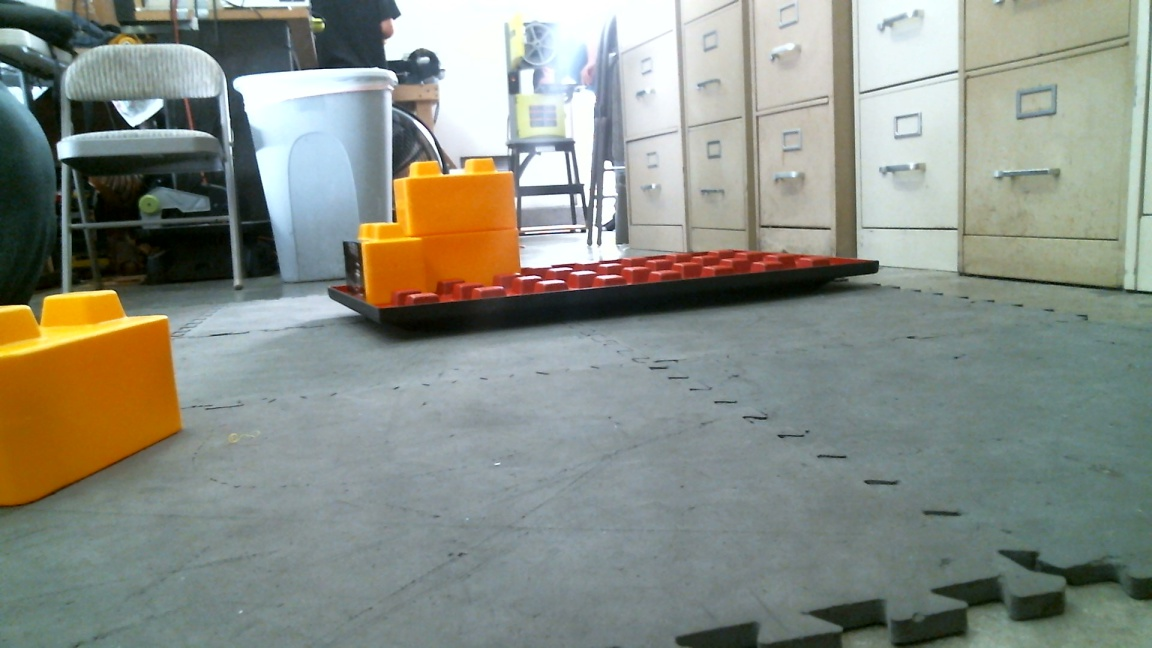skystone: (346, 222, 423, 299)
stone: (1, 301, 187, 519), (398, 161, 526, 282)
